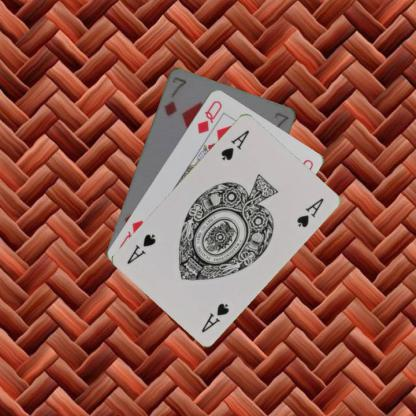7d: (161, 74, 188, 117)
As: (218, 127, 251, 161), (198, 300, 231, 334)
Qd: (194, 97, 223, 135)
